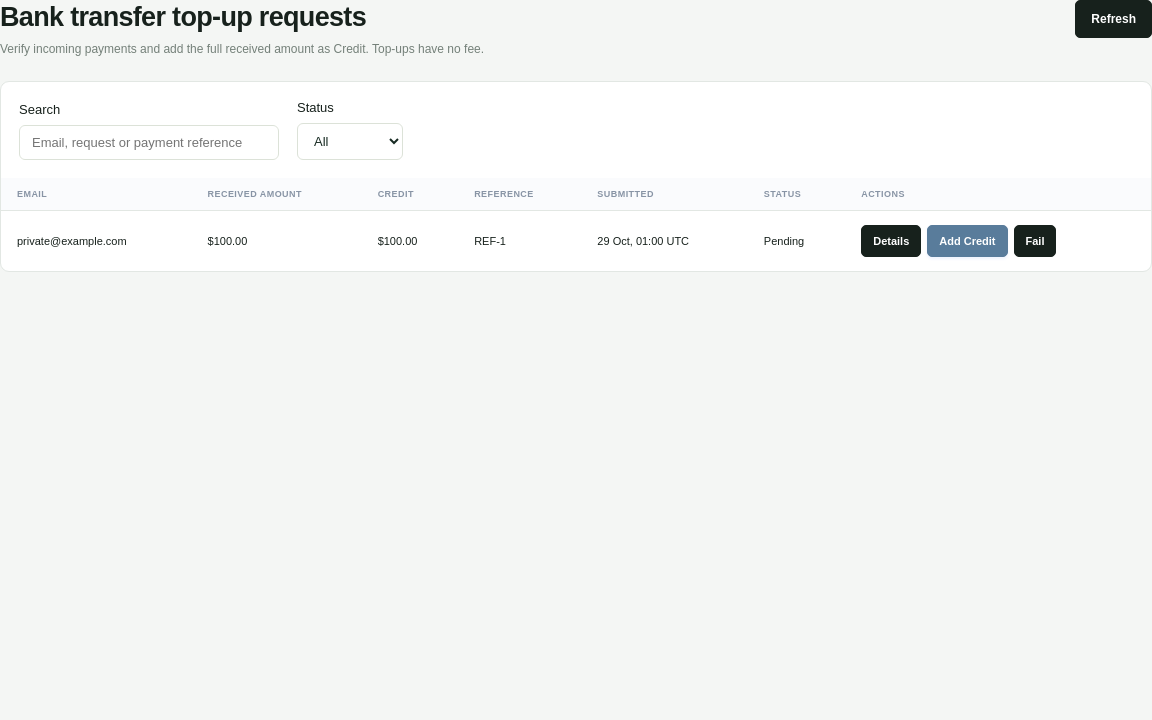
Test: clears private records and blocks more decisions after authorization expires
This screenshot has width=1152, height=720.
Click the button "Add Credit" at (967, 241), box [927,225,1008,257]
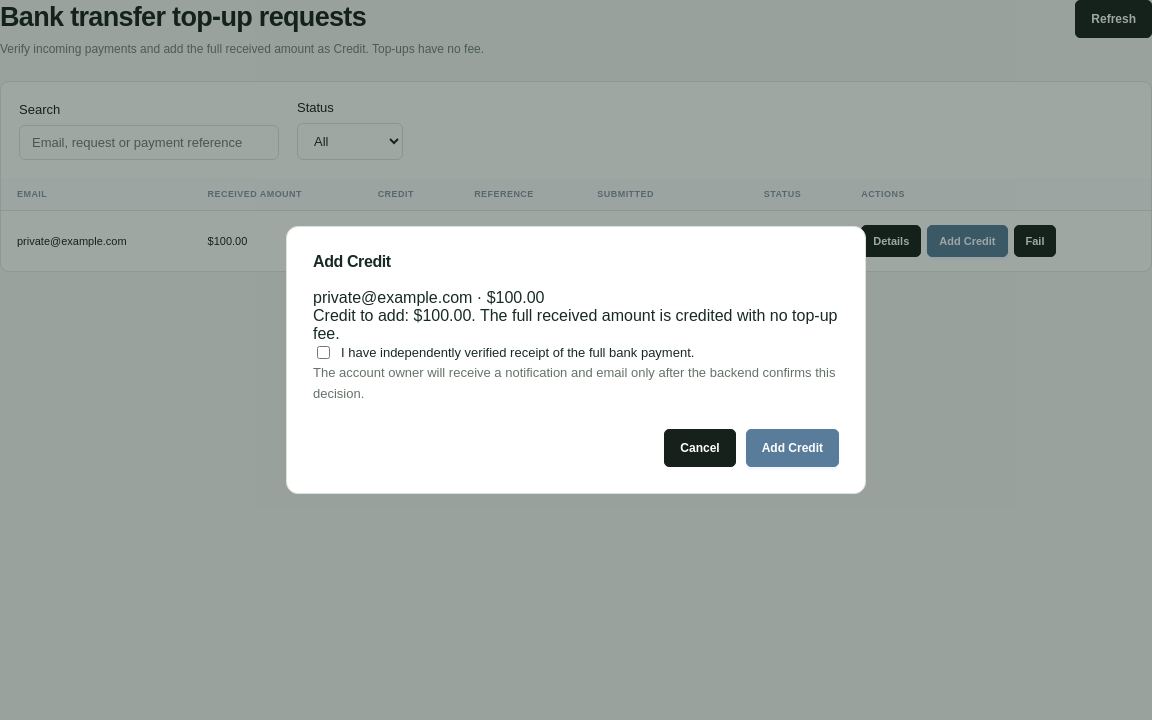
Click the checkbox at (324, 353), box [317,346,330,360]
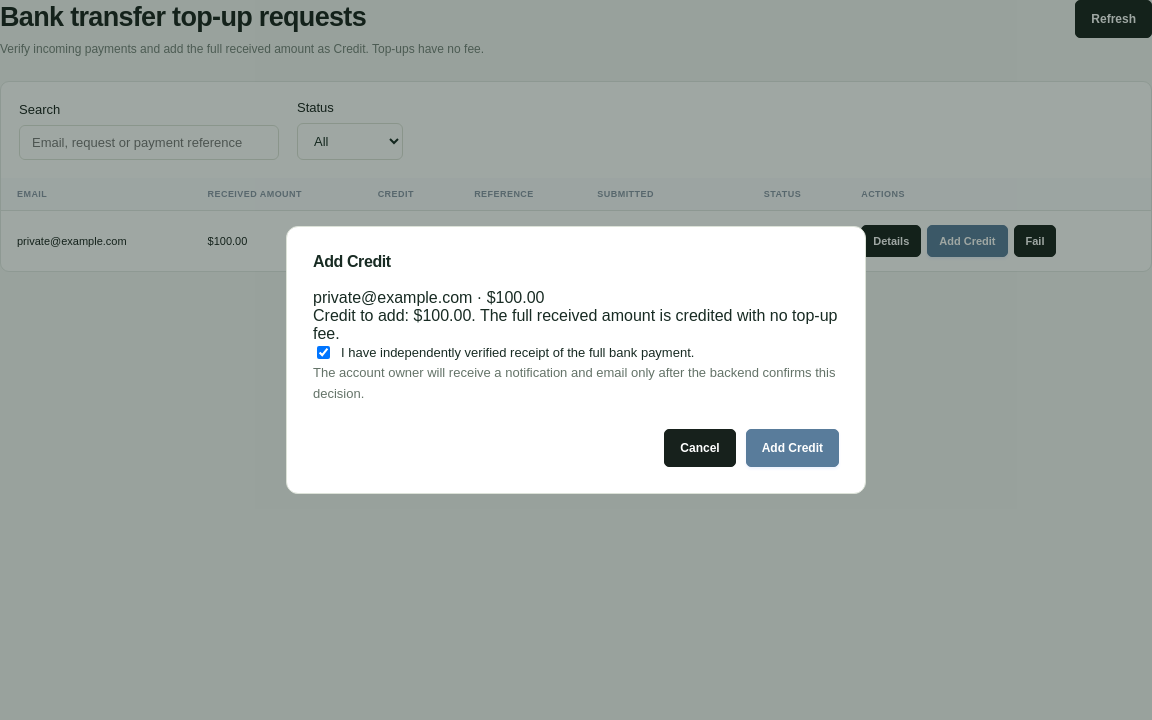
Click the button "Add Credit" at (792, 448), box [746,428,839,466]
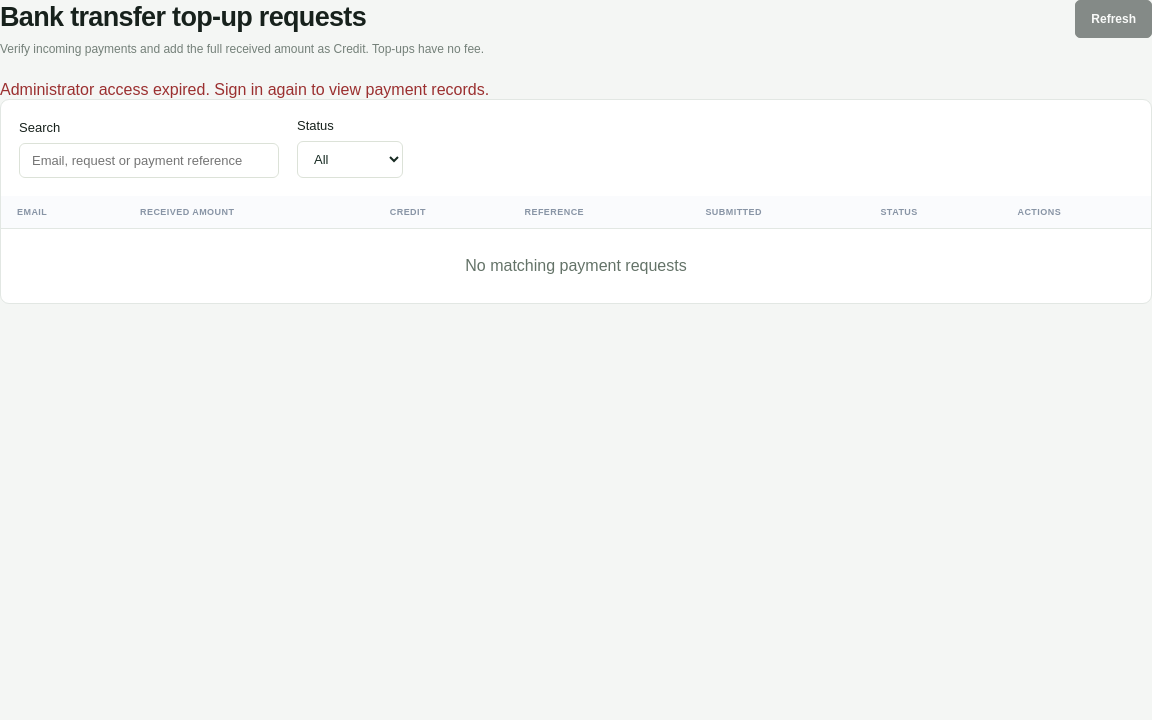
Check: the message shows "Administrator access expired", box [0,81,489,98]
Check: the text "private@example.com" is gone
Check: the dialog is gone
